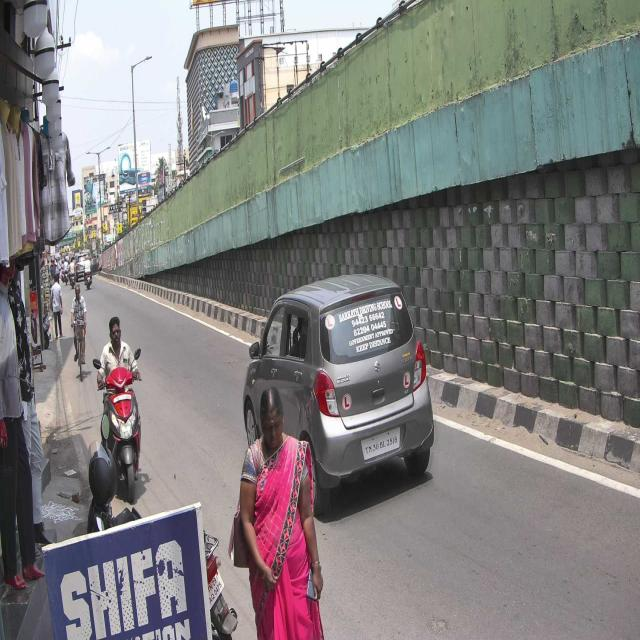single_rider: (92, 312, 148, 508)
